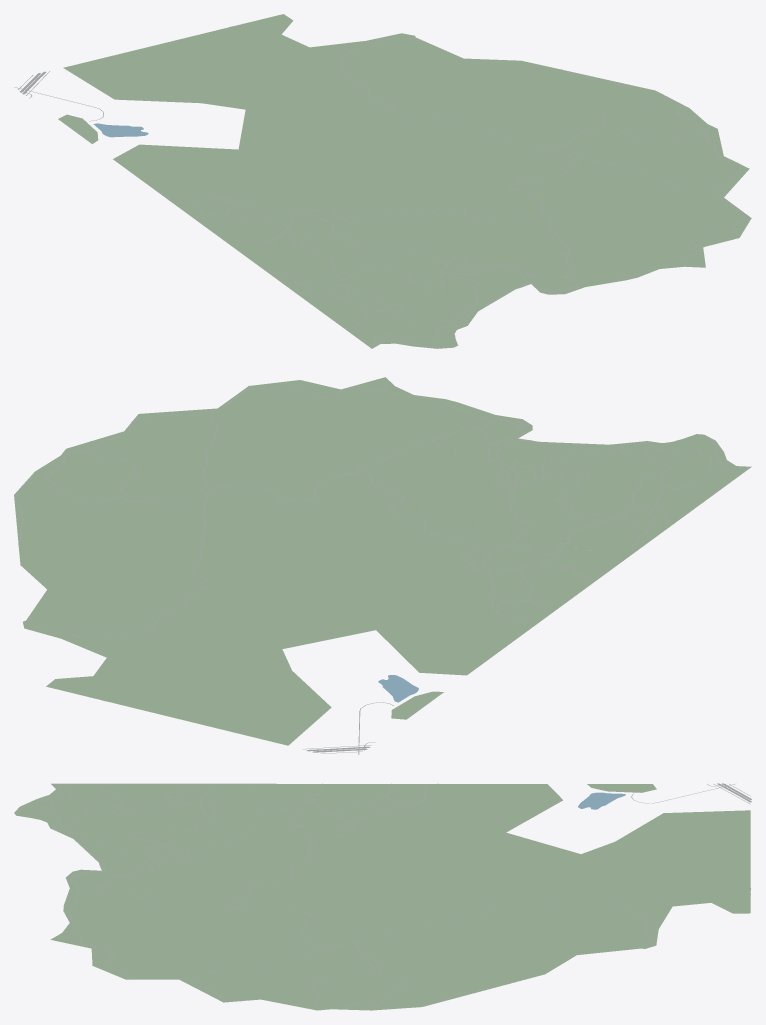
The model's file is overview-known--2_3.glb.
3 renders of one model, top to bottom at view 1: azimuth 30°, elevation 25°; view 2: azimuth 150°, elevation 25°; view 3: azimuth 270°, elevation 25°, orthographic. The views are drawn at different scales.
Bounding box in the file's own units: 2230 × 0.7188 × 3062.
